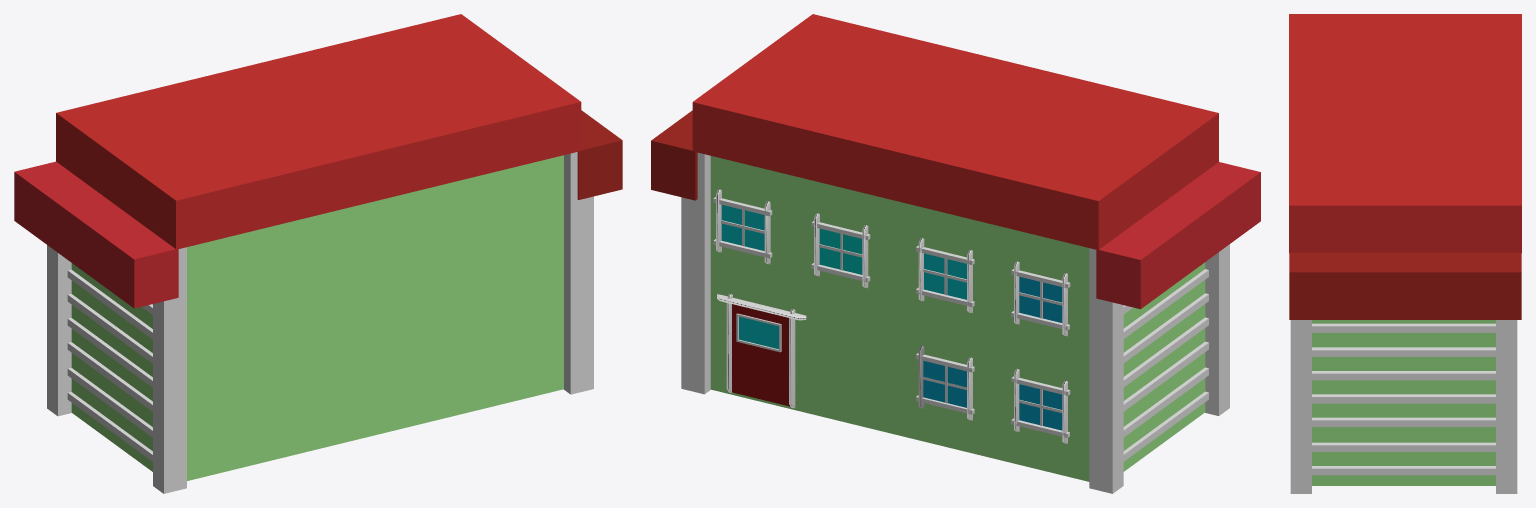
Rendered from dom2.fbx.
3 views of the same model, side by side, from view 1: azimuth 30°, elevation 25°; view 2: azimuth 150°, elevation 25°; view 3: azimuth 270°, elevation 25° (orthographic). The views are drawn at different scales.
Visible parts, largest first — view 1: Cube, Cube_018, Cube_017, Cube_047, Cube_046, Cube_045, Cube_016, Cube_061, Cube_062, Cube_063, Cube_058, Cube_059 (+1 smaller); view 2: Cube_018, Cube, Cube_017, Cube_045, Cube_044, Grid, Cube_047, Cube_016, Grid_001, Grid_005, Grid_006, Grid_003 (+10 smaller); view 3: Cube_018, Cube, Cube_016, Cube_044, Cube_046, Cube_049, Cube_050, Cube_051, Cube_052, Cube_053, Cube_054, Cube_055.
Boxes of the visible parts, box(x1,y1,x2,y2) form: Cube: box(71, 155, 563, 480); Cube_018: box(56, 14, 581, 249); Cube_017: box(14, 161, 178, 308); Cube_047: box(153, 247, 186, 493); Cube_046: box(564, 152, 593, 394); Cube_045: box(47, 245, 71, 416); Cube_016: box(577, 110, 622, 199); Cube_061: box(67, 342, 152, 411); Cube_062: box(67, 367, 152, 437); Cube_063: box(67, 392, 152, 461); Cube_058: box(67, 269, 152, 339); Cube_059: box(67, 294, 152, 363); Cube_018: box(692, 14, 1218, 250); Cube: box(710, 156, 1205, 481); Cube_017: box(1096, 162, 1260, 309); Cube_045: box(1089, 248, 1123, 493); Cube_044: box(681, 152, 710, 394); Grid: box(732, 304, 790, 406); Cube_047: box(1205, 244, 1229, 415); Cube_016: box(651, 110, 697, 200); Grid_001: box(923, 361, 966, 407); Grid_005: box(819, 228, 862, 274); Grid_006: box(721, 205, 764, 250); Grid_003: box(1019, 276, 1062, 322); Cube_018: box(1289, 14, 1521, 252); Cube: box(1312, 320, 1495, 485); Cube_016: box(1289, 252, 1521, 319); Cube_044: box(1496, 320, 1517, 493); Cube_046: box(1290, 320, 1311, 493); Cube_049: box(1312, 323, 1495, 332); Cube_050: box(1312, 347, 1495, 356); Cube_051: box(1312, 371, 1495, 380); Cube_052: box(1312, 394, 1495, 403); Cube_053: box(1312, 417, 1495, 426); Cube_054: box(1312, 442, 1495, 451); Cube_055: box(1312, 466, 1495, 475).
Bounding box in the file's own units: 13835 × 7875 × 5890.
